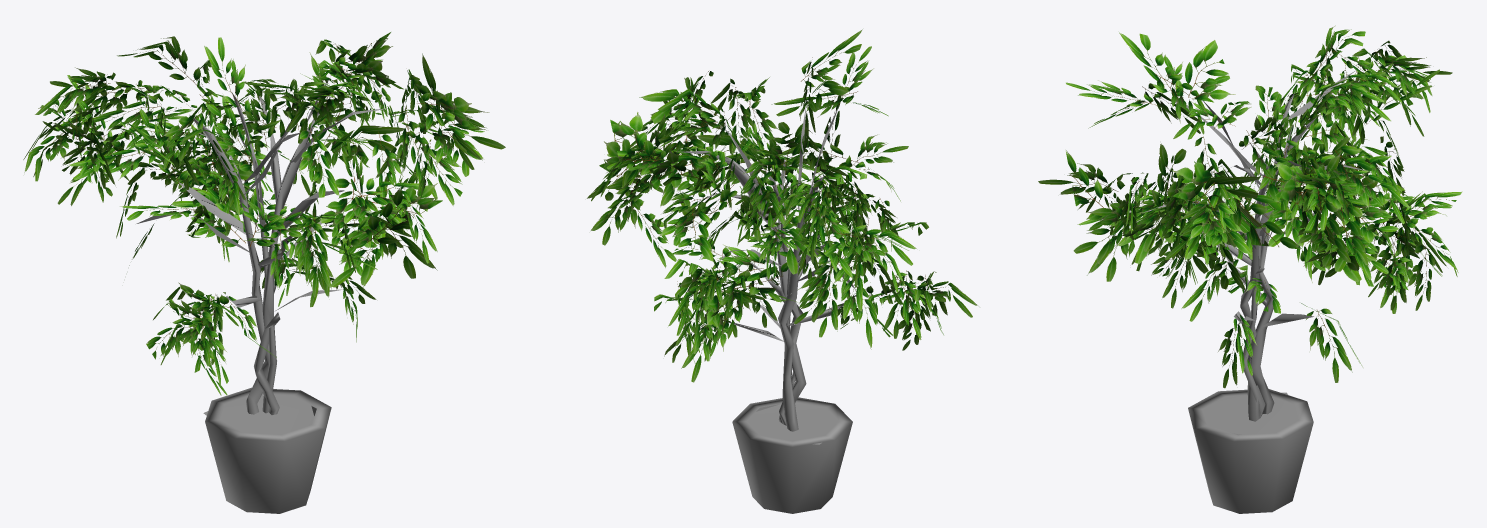
The model's file is Ficus_leaf_lod2.fbx.
The picture shows the model from 3 angles, left to right: view 1: azimuth 30°, elevation 25°; view 2: azimuth 150°, elevation 25°; view 3: azimuth 270°, elevation 25°; orthographic projection. The views are drawn at different scales.
Parts seen in each view (by area): view 1: Ficus_leaf_lod2; view 2: Ficus_leaf_lod2; view 3: Ficus_leaf_lod2.
Part boxes in pixels (<box>): Ficus_leaf_lod2: <box>23,32,505,513</box>; Ficus_leaf_lod2: <box>587,29,977,513</box>; Ficus_leaf_lod2: <box>1038,25,1462,513</box>.
Size of the model in its own units: 154 by 169 by 146.
Materials: 3 (1 with a texture image).
